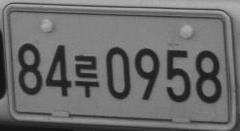0: (105, 46, 131, 99)
4: (45, 43, 72, 96)
5: (165, 49, 191, 102)
8: (194, 49, 223, 104), (16, 42, 42, 95)
9: (134, 46, 160, 99)
루: (74, 54, 99, 97)
